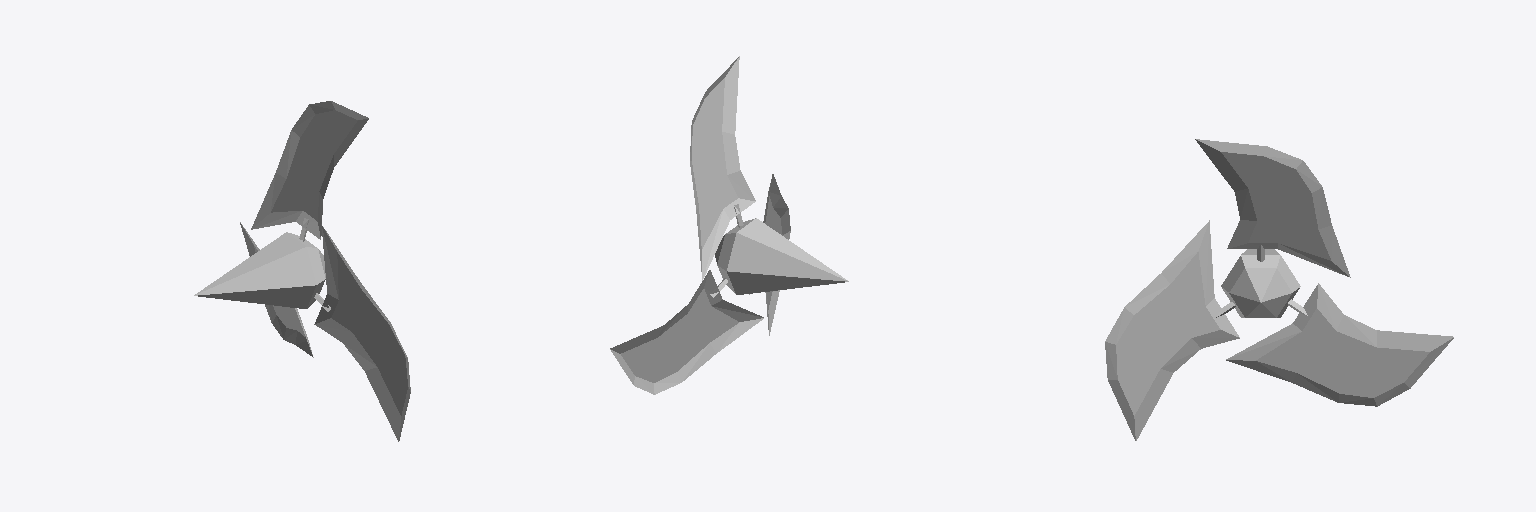
Rendered from stg400_MotFan_g7_07.obj.
3 renders of one model, left to right at view 1: azimuth 30°, elevation 25°; view 2: azimuth 150°, elevation 25°; view 3: azimuth 270°, elevation 25°, orthographic.
Parts seen in each view (by area): view 1: polygon1, polygon0; view 2: polygon1, polygon0; view 3: polygon1, polygon0.
Part boxes in pixels (left/top/right/bottom): polygon1: left=240, top=101, right=410, bottom=441; polygon0: left=194, top=232, right=325, bottom=308; polygon1: left=610, top=56, right=790, bottom=394; polygon0: left=715, top=218, right=848, bottom=294; polygon1: left=1105, top=139, right=1453, bottom=440; polygon0: left=1221, top=249, right=1300, bottom=317.
Bounding box in the file's own units: 13.93 × 27.87 × 29.17.